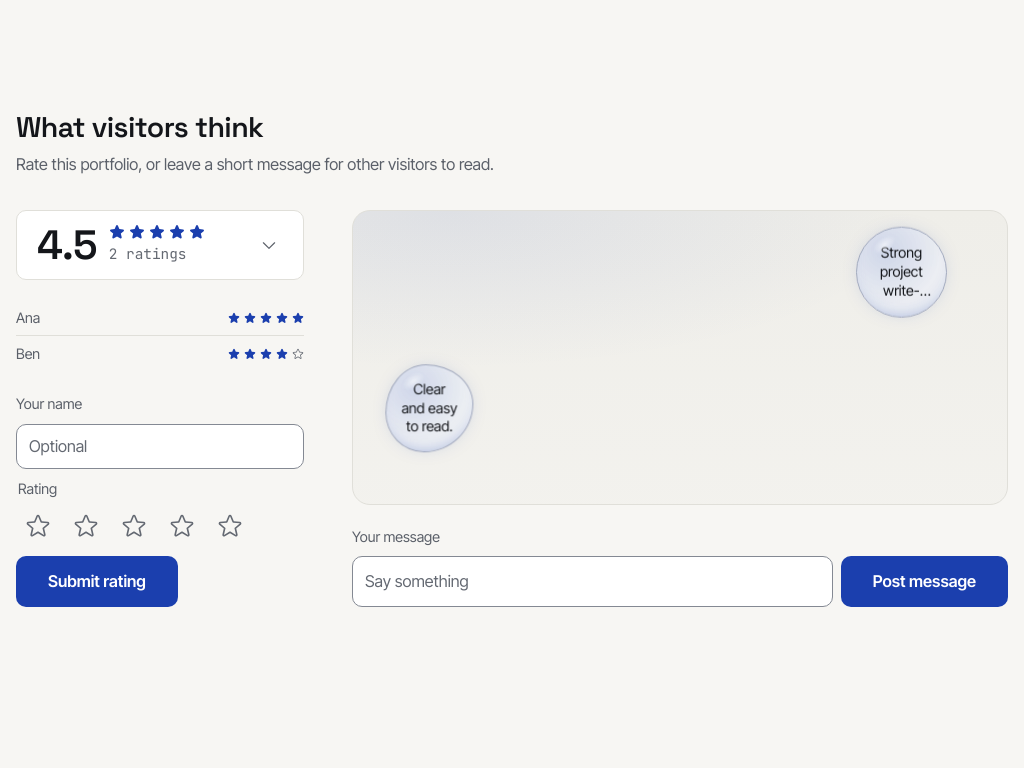
Test case: Reviews › keeps the star breakdown folded away until the arrow opens it
Expected: the text "4.5" is shown, [37,225,97,266]
Click the button named "rating breakdown": (269, 245) [247,223,291,267]
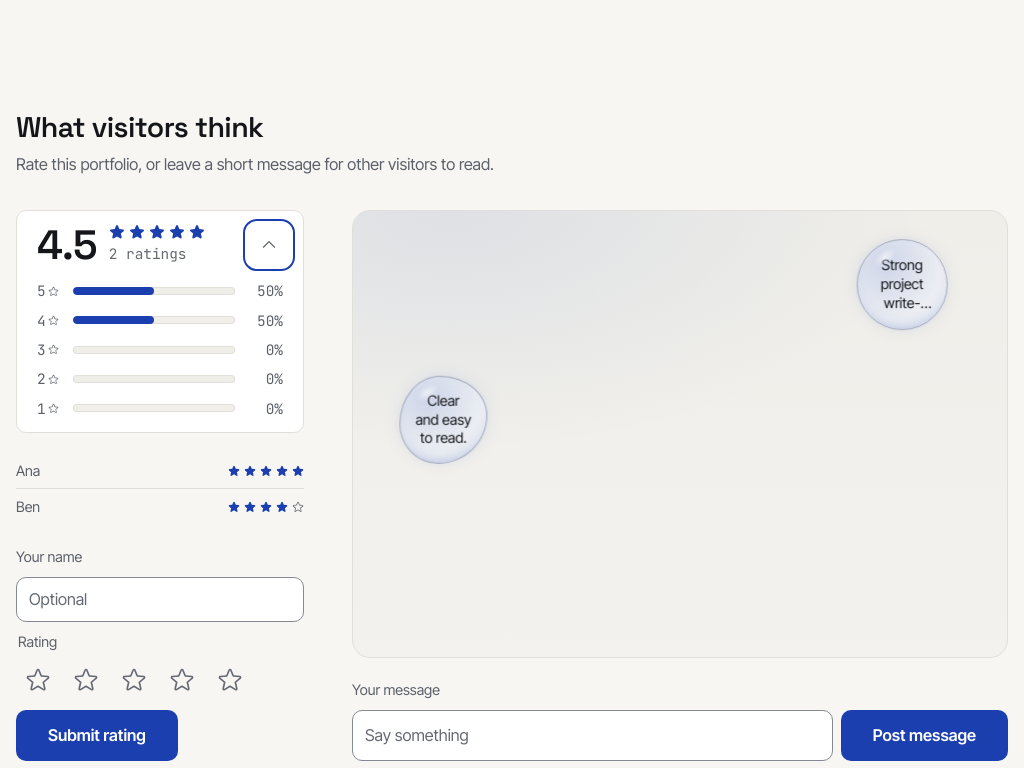
Expected: the list item "5 50%" is shown, [37,279,283,303]
Expected: the list item "4 50%" is shown, [37,308,283,332]
Expected: the list item "3 0%" is shown, [37,338,283,362]
